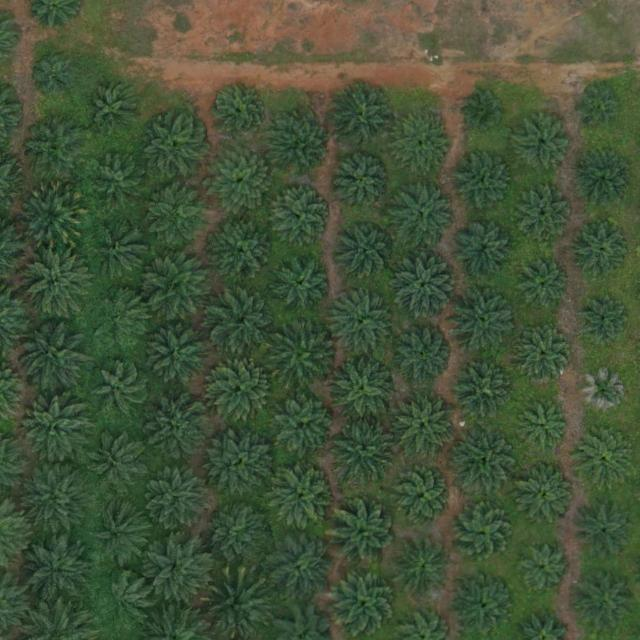Kelapa_Sawit: (205, 146, 275, 217), (208, 216, 278, 287), (269, 318, 339, 389), (325, 287, 395, 358), (326, 354, 396, 425), (331, 416, 401, 487), (448, 426, 518, 497), (17, 180, 87, 250), (19, 245, 89, 315), (16, 319, 86, 389), (19, 395, 89, 465), (20, 462, 90, 532), (144, 252, 214, 322), (143, 319, 213, 389), (142, 462, 212, 532), (208, 287, 278, 357), (207, 427, 277, 497), (327, 81, 397, 151), (390, 250, 460, 320), (448, 285, 518, 355), (327, 498, 397, 568), (329, 567, 399, 637), (201, 500, 271, 570), (144, 534, 214, 604), (20, 534, 90, 604), (204, 567, 270, 640), (22, 116, 84, 179), (148, 397, 210, 460), (209, 357, 271, 420), (270, 116, 332, 179), (273, 393, 335, 456), (333, 153, 395, 216), (334, 219, 396, 282), (391, 114, 453, 177), (392, 180, 454, 243), (451, 150, 513, 213), (453, 218, 515, 281), (452, 358, 514, 421), (512, 111, 574, 174), (575, 426, 637, 489), (572, 498, 634, 561), (391, 535, 453, 598), (269, 464, 331, 527), (267, 534, 329, 597), (89, 501, 151, 564), (142, 115, 204, 177), (150, 184, 212, 246), (270, 184, 332, 246), (272, 253, 334, 315), (392, 322, 454, 384), (393, 395, 455, 457), (574, 570, 636, 632), (514, 462, 576, 524), (451, 501, 513, 563), (454, 574, 516, 636), (391, 464, 453, 526), (84, 81, 139, 136), (91, 225, 146, 280), (517, 189, 572, 244), (576, 153, 631, 208), (574, 224, 629, 279), (516, 539, 571, 594), (94, 574, 149, 629), (94, 156, 148, 211), (93, 290, 147, 345), (90, 361, 144, 416), (91, 434, 145, 489), (210, 83, 264, 138), (515, 260, 569, 315), (517, 329, 571, 384), (459, 85, 505, 133), (521, 402, 567, 449), (579, 297, 625, 343), (579, 367, 625, 413), (576, 83, 621, 129), (33, 55, 72, 94)
